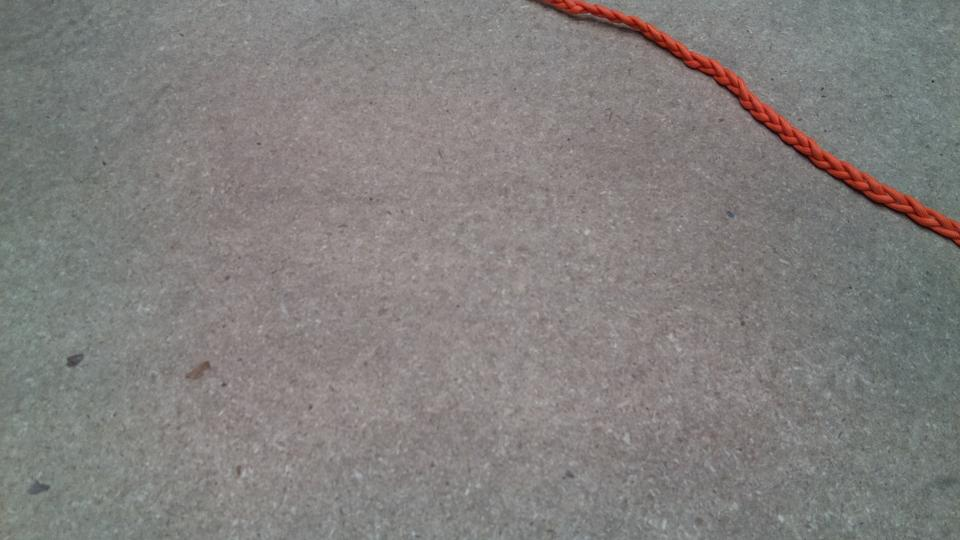rope: (563, 1, 960, 236)
